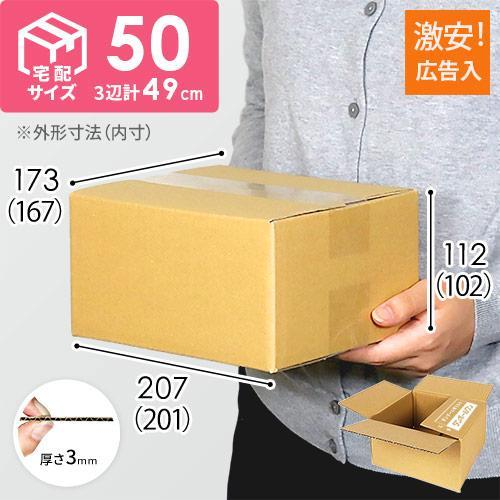box: (49, 161, 425, 375), (341, 380, 493, 490)
